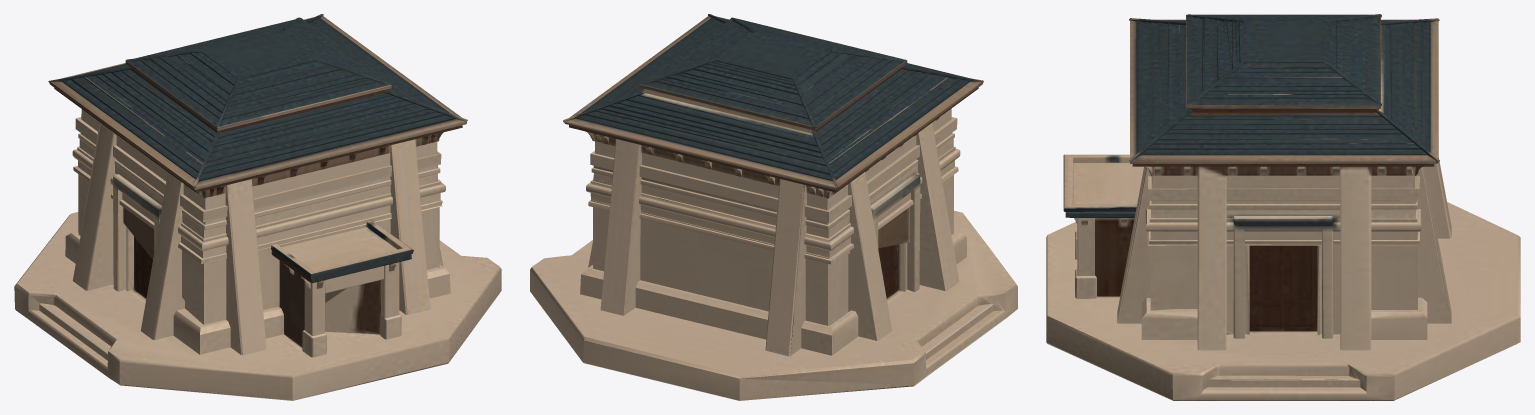
The model's file is artifact-vault-map.glb.
The picture shows the model from 3 angles, left to right: view 1: azimuth 30°, elevation 25°; view 2: azimuth 150°, elevation 25°; view 3: azimuth 270°, elevation 25°; orthographic projection. The views are drawn at different scales.
Bounding box in the file's own units: 0.9434 × 0.5811 × 0.9526.
1 material, 1 textured.
